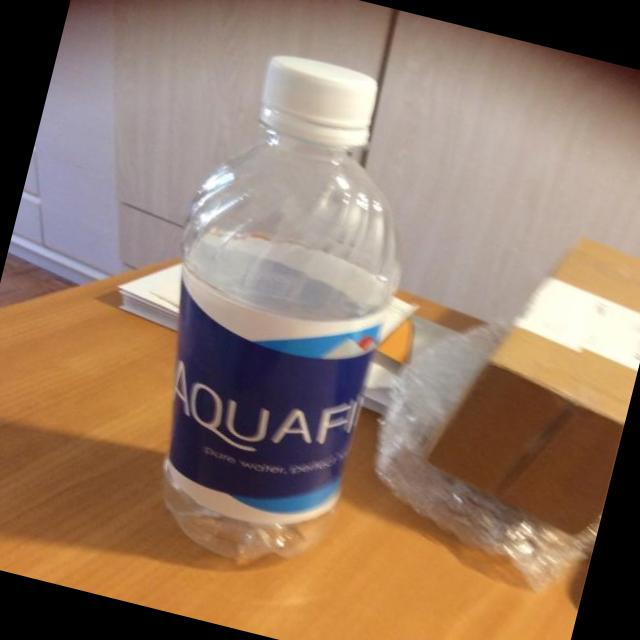plastic_bottle: (108, 39, 452, 586)
